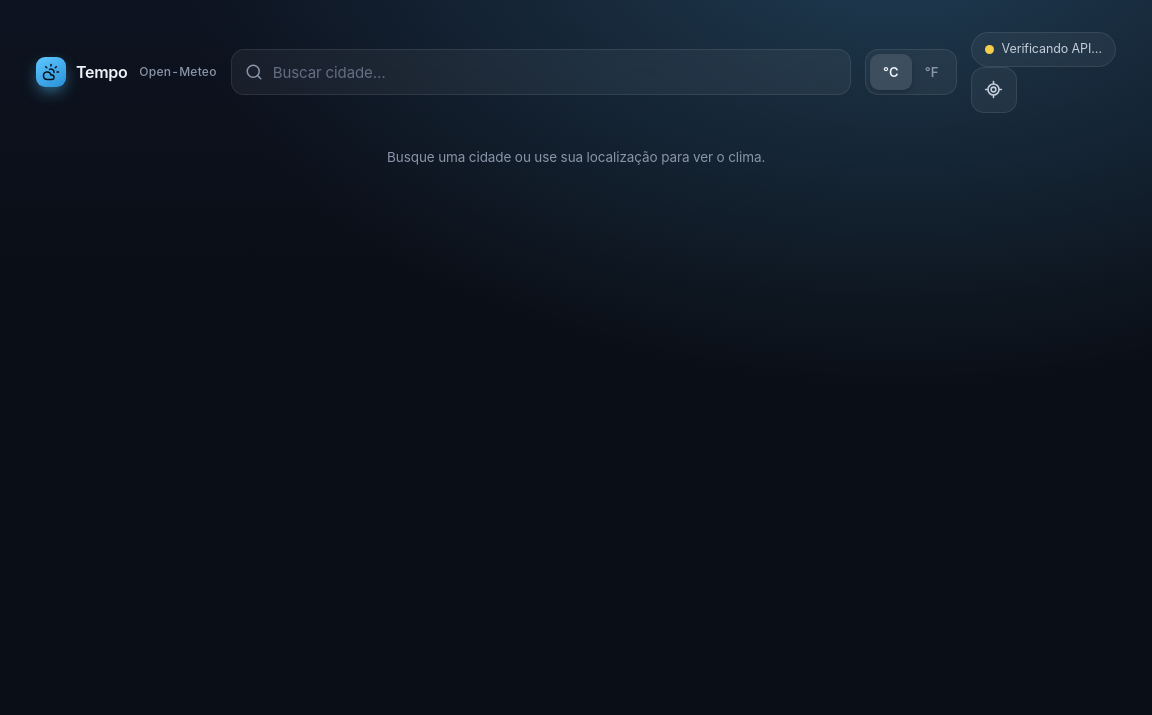
Scenario: WeatherDashboardPage › #9 searches, selects a suggestion and renders the hero and cards
Type "London" into the dropdown.
click(555, 72); type("London")  # box left=273, top=50, right=837, bottom=94
Wait 240 ms
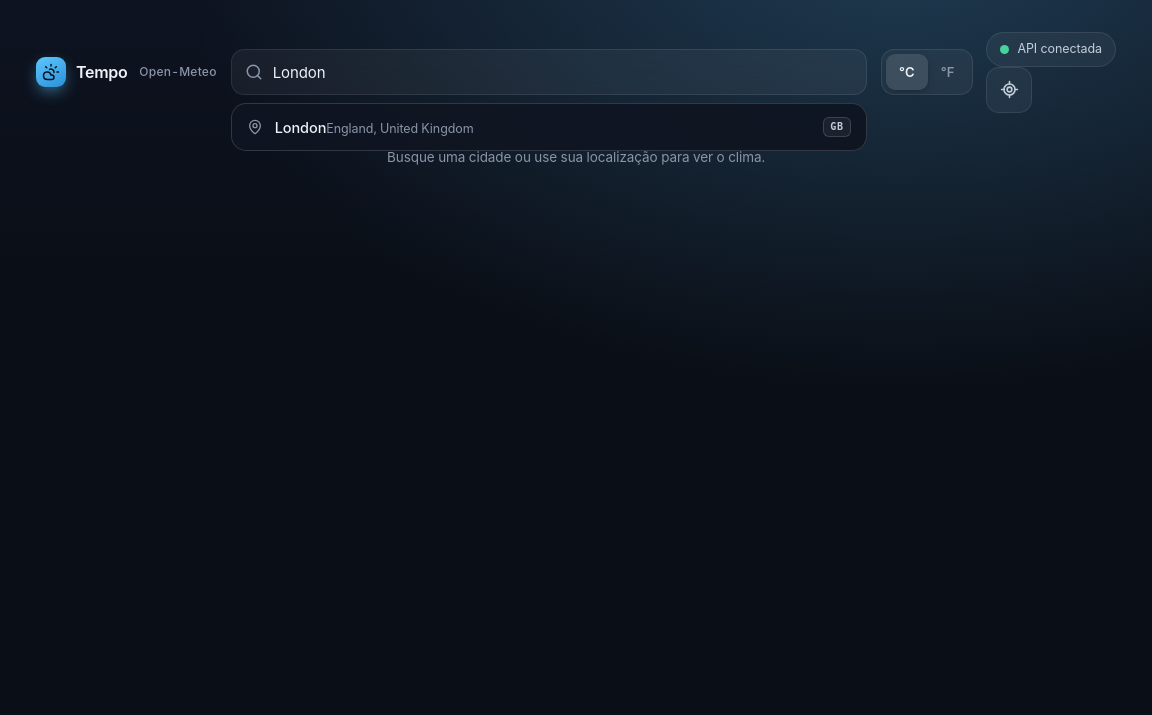
Press the mouse on the option at (300, 128), box left=232, top=104, right=866, bottom=150
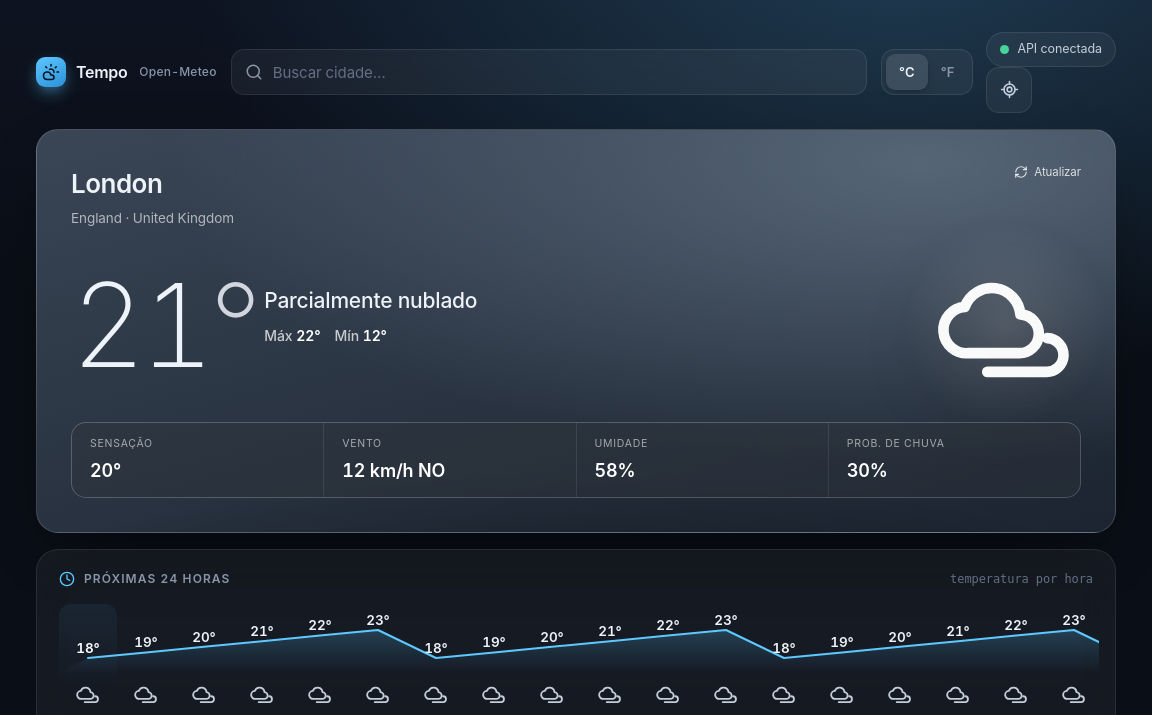
Now the text "London" is shown, box left=71, top=168, right=162, bottom=199
Now the heading "Próximas 24 horas" is shown, box left=84, top=570, right=230, bottom=588
